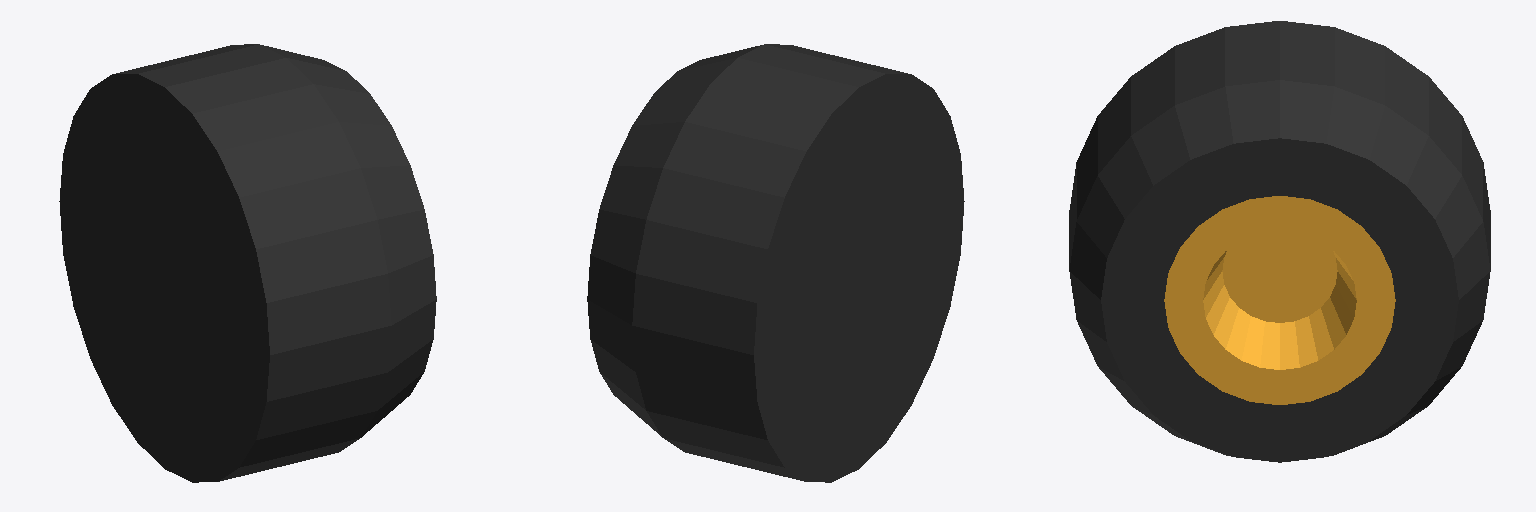
File: wheelTractorFront.obj
3 renders of one model, left to right at view 1: azimuth 30°, elevation 25°; view 2: azimuth 150°, elevation 25°; view 3: azimuth 270°, elevation 25°, orthographic.
Parts seen in each view (by area): view 1: wheelTractorFront; view 2: wheelTractorFront; view 3: wheelTractorFront.
Boxes of the visible parts, <box> form: wheelTractorFront: <box>59,44,436,482</box>; wheelTractorFront: <box>587,44,964,482</box>; wheelTractorFront: <box>1069,21,1490,462</box>.
Bounding box in the file's own units: 0.2693 × 0.5386 × 0.5386.